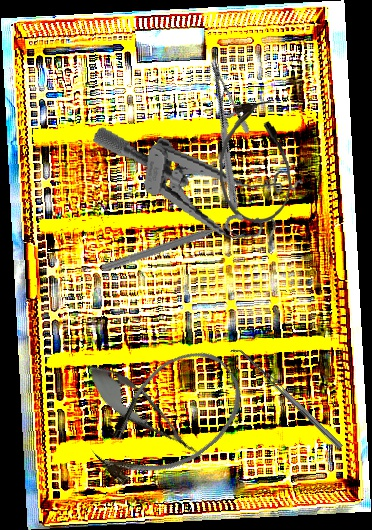Cannula: (76, 334, 260, 506), (216, 98, 293, 226)
Fixation Ring: (100, 212, 249, 284)
Micro Scissor: (75, 353, 214, 472)
Needle Holder: (153, 59, 296, 212)
Spatula Surgical: (229, 343, 344, 454)
Speculum: (79, 125, 309, 252)
